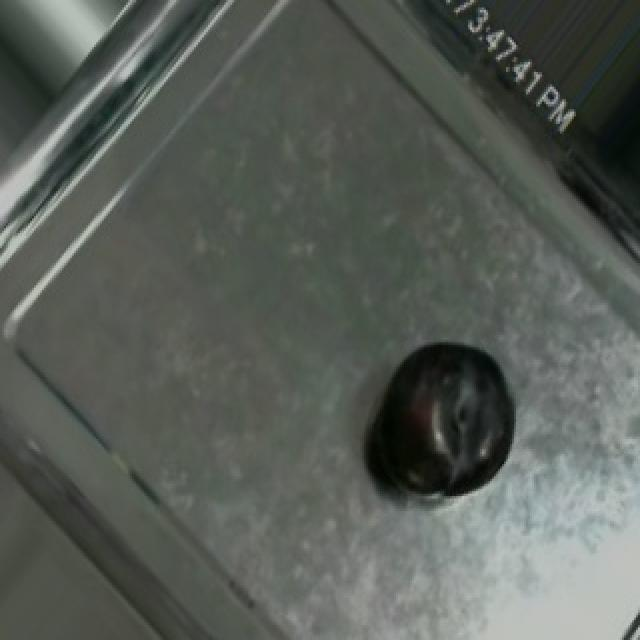Fruit: (354, 317, 540, 518)
